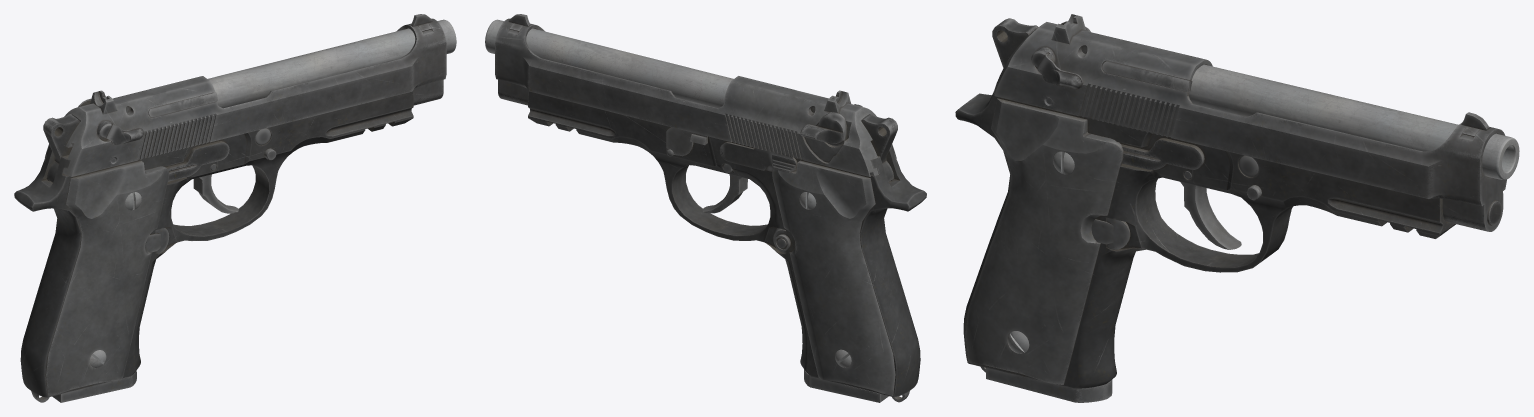
The model's file is DATS-I.glb.
The picture shows the model from 3 angles, left to right: view 1: azimuth 30°, elevation 25°; view 2: azimuth 150°, elevation 25°; view 3: azimuth 330°, elevation 25°; orthographic projection. The views are drawn at different scales.
Visible parts, largest first — view 1: Slide1, Lower_Body, Side_Grip, Barrel, Thruster, Left_Body_Supporter, Magazine, Left_Mode_Changer, Trigger, Left_Magazine_Button, Rear_Sight; view 2: Slide1, Lower_Body, Side_Grip, Barrel, Right_Body_Supporter, Thruster, Right_Mode_Changer, Magazine, Middle_Body_Support, Trigger; view 3: Slide1, Side_Grip, Lower_Body, Barrel, Left_Body_Supporter, Magazine, Trigger, Thruster, Left_Mode_Changer, Left_Magazine_Button, Rear_Sight.
Part boxes in pixels (bbox=[...]): Slide1: bbox=[44, 18, 446, 176]; Lower_Body: bbox=[14, 90, 413, 397]; Side_Grip: bbox=[45, 161, 168, 396]; Barrel: bbox=[208, 19, 456, 108]; Thruster: bbox=[43, 114, 79, 182]; Left_Body_Supporter: bbox=[166, 141, 229, 181]; Magazine: bbox=[52, 370, 136, 402]; Left_Mode_Changer: bbox=[97, 120, 143, 145]; Trigger: bbox=[193, 174, 238, 213]; Left_Magazine_Button: bbox=[146, 228, 169, 253]; Rear_Sight: bbox=[90, 90, 116, 114]; Slide1: bbox=[495, 18, 896, 176]; Lower_Body: bbox=[528, 90, 926, 397]; Side_Grip: bbox=[772, 160, 895, 395]; Barrel: bbox=[485, 19, 733, 108]; Right_Body_Supporter: bbox=[719, 142, 797, 172]; Thruster: bbox=[861, 114, 897, 182]; Right_Mode_Changer: bbox=[800, 112, 847, 145]; Magazine: bbox=[804, 369, 888, 402]; Middle_Body_Support: bbox=[666, 127, 707, 156]; Trigger: bbox=[702, 174, 747, 213]; Slide1: bbox=[994, 22, 1506, 231]; Side_Grip: bbox=[965, 98, 1123, 384]; Lower_Body: bbox=[955, 74, 1455, 388]; Barrel: bbox=[1189, 64, 1519, 179]; Left_Body_Supporter: bbox=[1121, 138, 1204, 170]; Magazine: bbox=[986, 368, 1112, 402]; Trigger: bbox=[1180, 182, 1241, 249]; Thruster: bbox=[992, 18, 1038, 67]; Left_Mode_Changer: bbox=[1031, 47, 1083, 89]; Left_Magazine_Button: bbox=[1091, 217, 1130, 249]; Rear_Sight: bbox=[1052, 14, 1086, 44].
Size of the model in its own units: 0.2159 by 0.142 by 0.0321.
3 materials, 3 textured.
